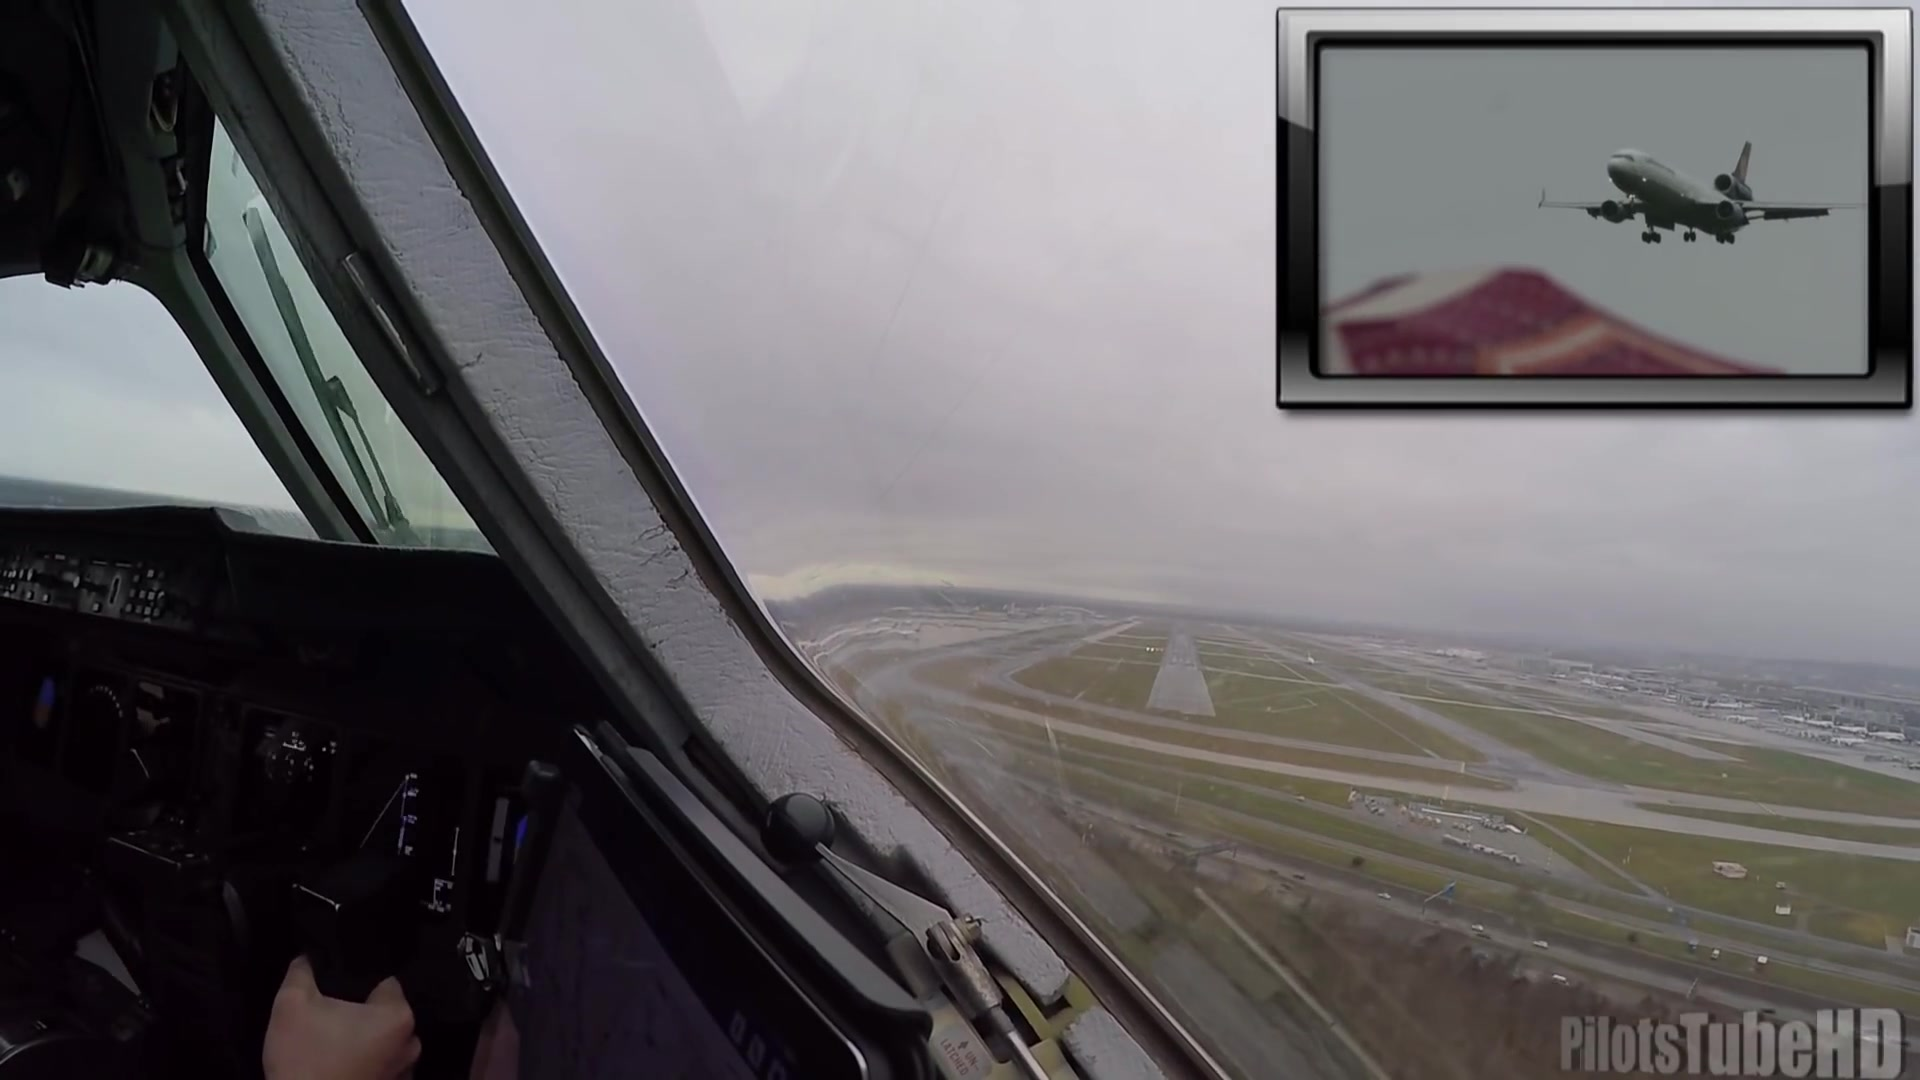runway: (1145, 626, 1215, 713)
